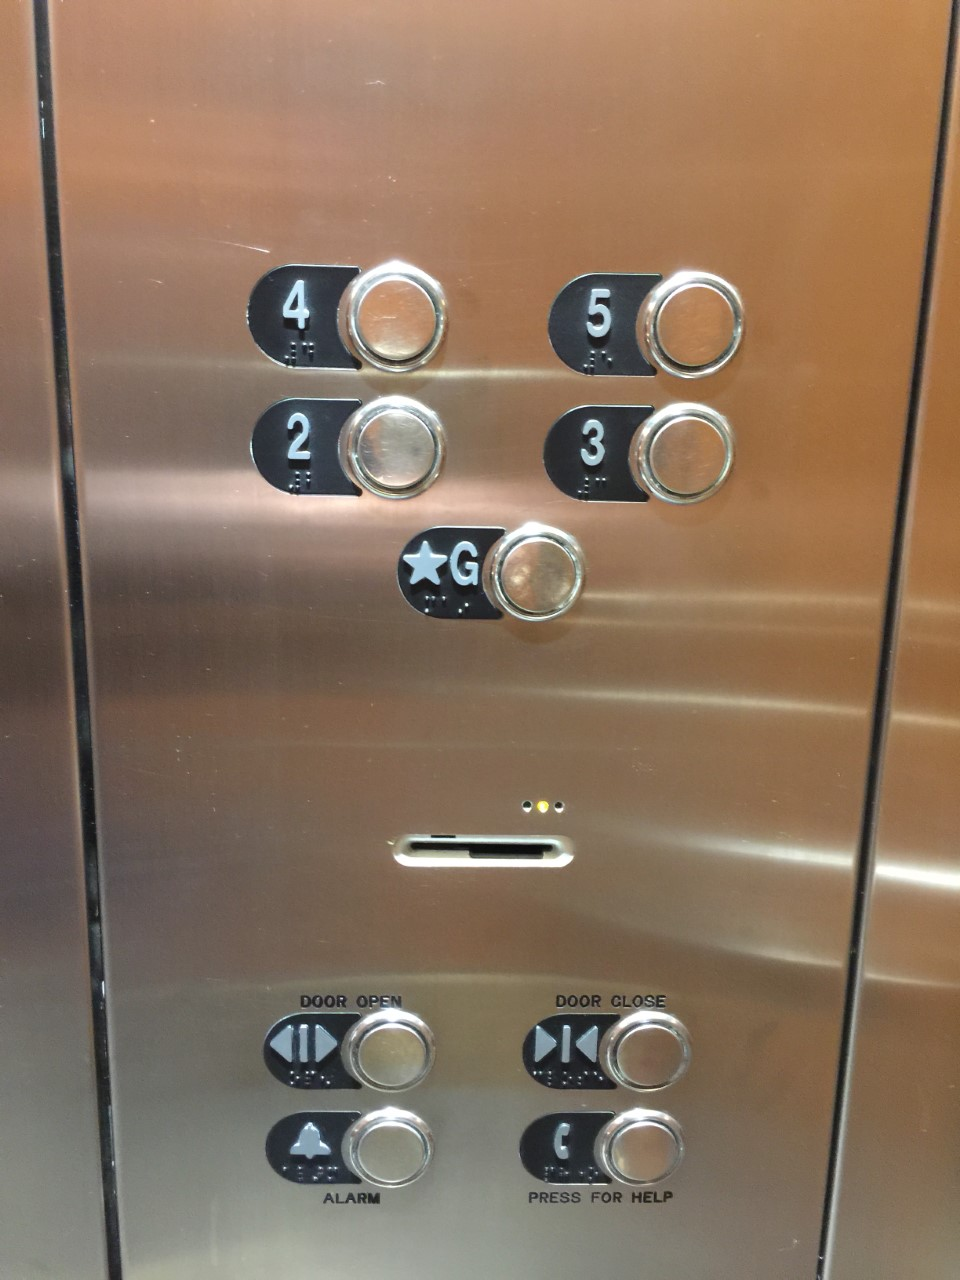button: (245, 251, 452, 385), (543, 263, 749, 383), (537, 400, 742, 511), (246, 393, 448, 505), (394, 523, 592, 626), (257, 1005, 438, 1097), (262, 1103, 438, 1189), (517, 1011, 694, 1097), (515, 1106, 691, 1188)
